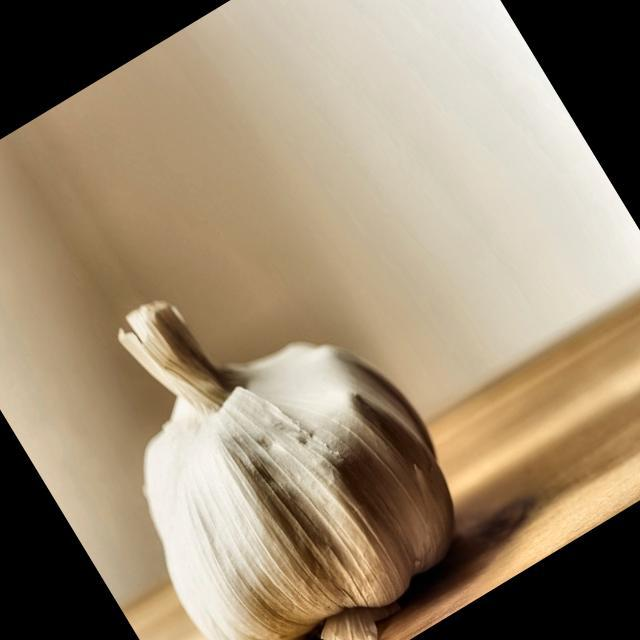garlic: (120, 301, 452, 640)
